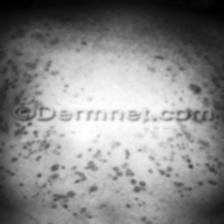Non-Cancerous Skin Condition: (0, 120, 224, 206)
